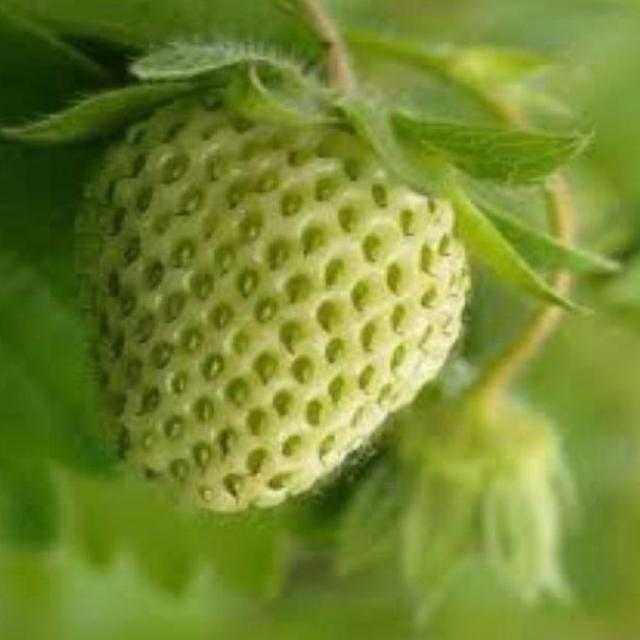Healthy Fruit: (71, 83, 473, 515)
